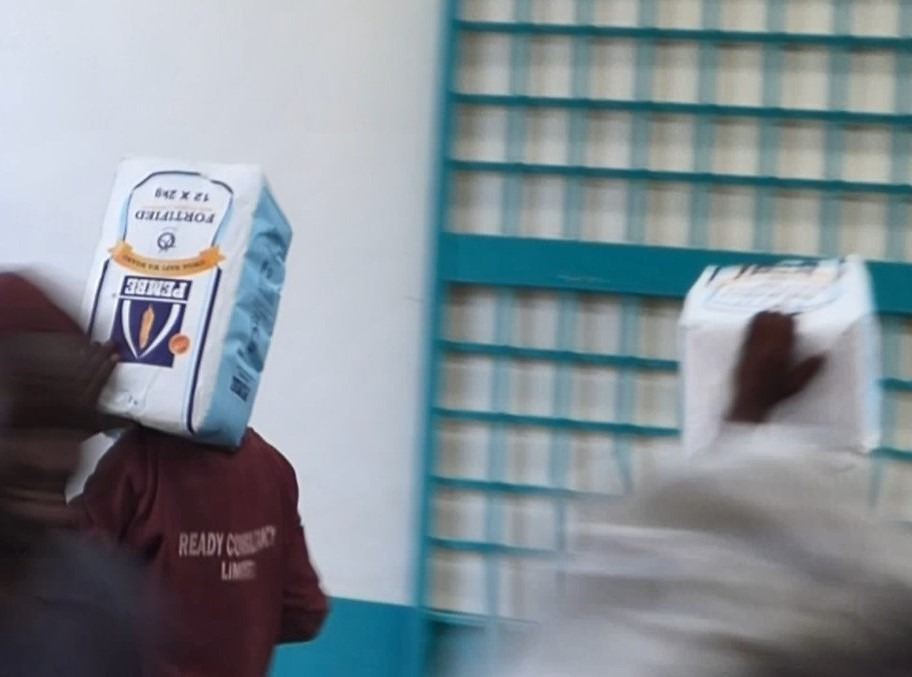wheat_flour_blue_label: (81, 154, 291, 437), (676, 260, 881, 451)
